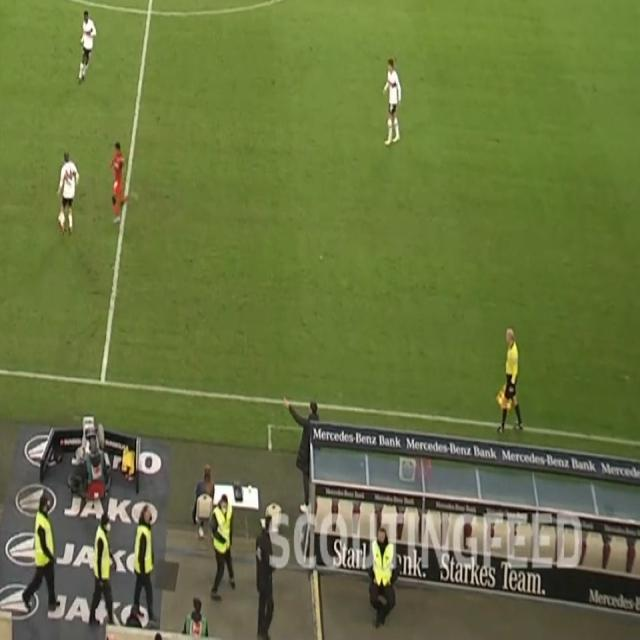ball: (58, 211, 66, 225)
